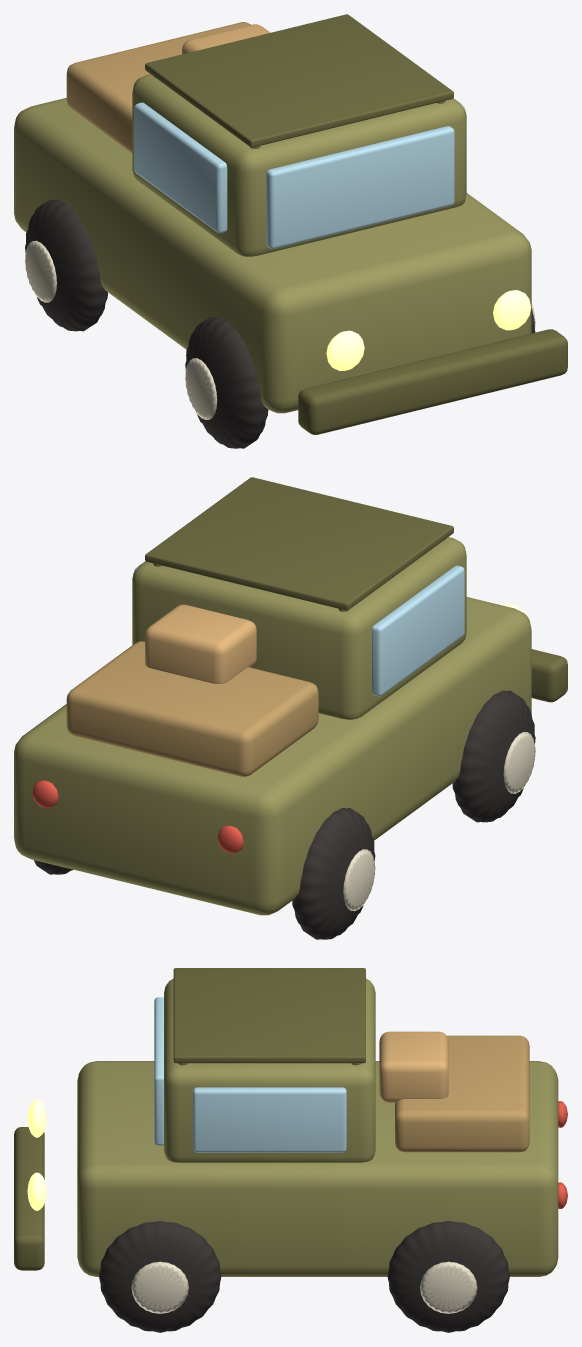
The model's file is truck.glb.
The picture shows the model from 3 angles, top to bottom: view 1: azimuth 30°, elevation 25°; view 2: azimuth 150°, elevation 25°; view 3: azimuth 270°, elevation 25°; orthographic projection. The views are drawn at different scales.
Parts seen in each view (by area): view 1: chassis, rack, cabin, windshield, bumper, sidewin-1, cargo, tire.001, tire, hub, hub.001, headlight-1 (+2 smaller); view 2: chassis, rack, cargo, cabin, sidewin-1, cargo2, tire.001, tire, bumper, hub.001, hub, taillight1 (+1 smaller); view 3: chassis, rack, cabin, cargo, sidewin1, tire.002, tire.003, cargo2, bumper, hub.003, hub.002, windshield (+2 smaller).
Boxes of the visible parts, left/top/right/bottom form: chassis: left=14, top=98, right=531, bottom=413; rack: left=145, top=14, right=453, bottom=147; cabin: left=132, top=74, right=466, bottom=256; windshield: left=266, top=126, right=454, bottom=248; bumper: left=298, top=329, right=567, bottom=434; sidewin-1: left=134, top=102, right=227, bottom=233; cargo: left=66, top=22, right=250, bottom=153; tire.001: left=25, top=199, right=107, bottom=331; tire: left=185, top=317, right=268, bottom=448; hub: left=185, top=358, right=217, bottom=419; hub.001: left=25, top=240, right=56, bottom=302; headlight-1: left=326, top=330, right=364, bottom=370; chassis: left=14, top=597, right=531, bottom=915; rack: left=145, top=477, right=453, bottom=610; cargo: left=66, top=641, right=318, bottom=776; cabin: left=132, top=537, right=466, bottom=719; sidewin-1: left=372, top=565, right=464, bottom=696; cargo2: left=145, top=604, right=256, bottom=683; tire.001: left=292, top=808, right=375, bottom=939; tire: left=452, top=690, right=535, bottom=822; bumper: left=531, top=649, right=567, bottom=702; hub.001: left=343, top=849, right=375, bottom=910; hub: left=503, top=732, right=535, bottom=793; taillight1: left=32, top=780, right=58, bottom=808; chassis: left=77, top=1061, right=558, bottom=1276; rack: left=173, top=968, right=365, bottom=1063; cabin: left=164, top=978, right=375, bottom=1162; cargo: left=395, top=1035, right=529, bottom=1152; sidewin1: left=193, top=1087, right=346, bottom=1152; tire.002: left=99, top=1221, right=221, bottom=1332; tire.003: left=387, top=1221, right=509, bottom=1332; cargo2: left=379, top=1031, right=448, bottom=1102; bumper: left=14, top=1127, right=44, bottom=1270; hub.003: left=420, top=1261, right=477, bottom=1313; hub.002: left=131, top=1261, right=188, bottom=1313; windshield: left=154, top=997, right=163, bottom=1145.
Bounding box in the file's own units: 1.76 × 1.5 × 2.88.
